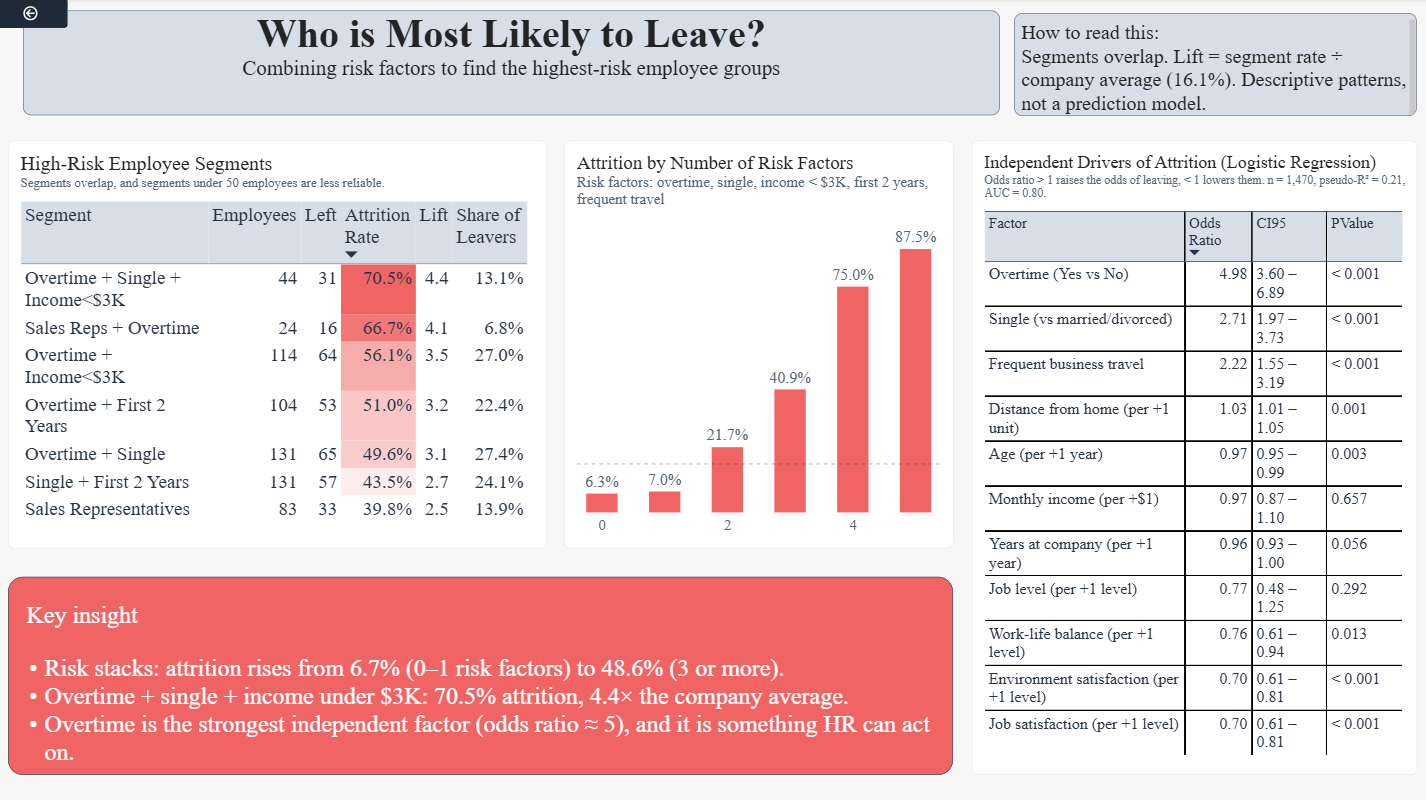

What the dashboard file says about the page in this screenshot:
{"tool":"powerbi","page":{"name":"High-Risk Segments","canvas":[1920,1080],"ordinal":2},"visuals":[{"type":"textbox","box":[40,17.5,1305,140],"z":0},{"type":"textbox","box":[1365,20,537.5,137.5],"z":1000},{"type":"tableEx","title":"High-Risk Employee Segments","fields":{"Values":["Segments.Segment","Segments.Segment Employees","Segments.Segment Left","Segments.Segment Attrition Rate","Segments.Segment Lift","Segments.Segment Share of Leavers"]},"box":[20,190,720,545],"z":2000},{"type":"actionButton","box":[0,0,100,40],"z":3000},{"type":"clusteredColumnChart","title":"Attrition by Number of Risk Factors","fields":{"Category":["EmployeeFact.Risk Factor Count"],"Y":["EmployeeFact.Attrition Rate"]},"box":[762.5,190,520,545],"z":4000},{"type":"tableEx","title":"Independent Drivers of Attrition (Logistic Regression)","fields":{"Values":["OddsRatios.Factor","OddsRatios.OddsRatio","OddsRatios.CI95","OddsRatios.PValue"]},"box":[1307.5,190,595,847.5],"z":5000},{"type":"textbox","box":[20,772.5,1262.5,265],"z":6000}]}

Visuals, with their boxes in screenshot pixels (x1, y1, x2, y2), scaled from the page's 1920x1080 canvas onto the 1426x800 screenshot:
textbox: [30, 13, 999, 117]
textbox: [1014, 15, 1413, 117]
"High-Risk Employee Segments" tableEx: [15, 141, 550, 544]
actionButton: [0, 0, 74, 30]
"Attrition by Number of Risk Factors" clusteredColumnChart: [566, 141, 953, 544]
"Independent Drivers of Attrition (Logistic Regression)" tableEx: [971, 141, 1413, 769]
textbox: [15, 572, 953, 769]
